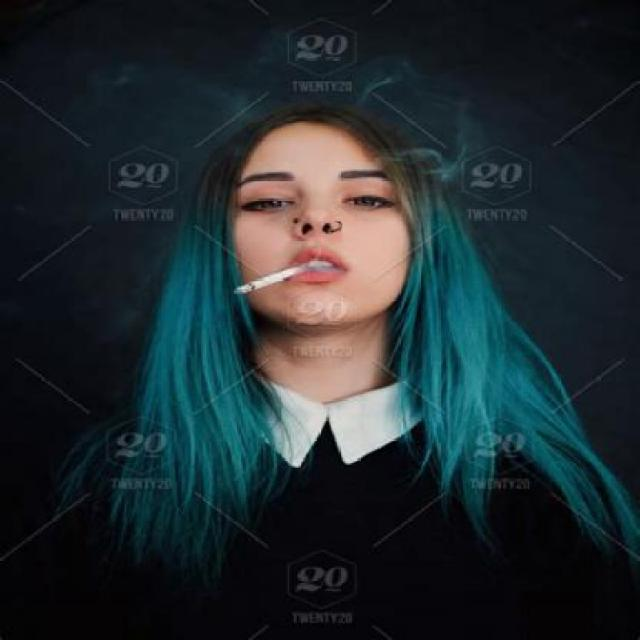cigarette: (226, 258, 309, 302)
